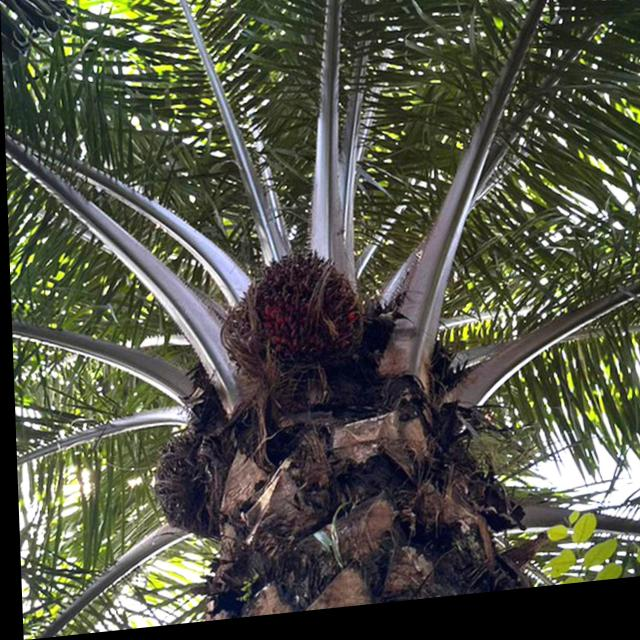ripe: (232, 244, 358, 382)
